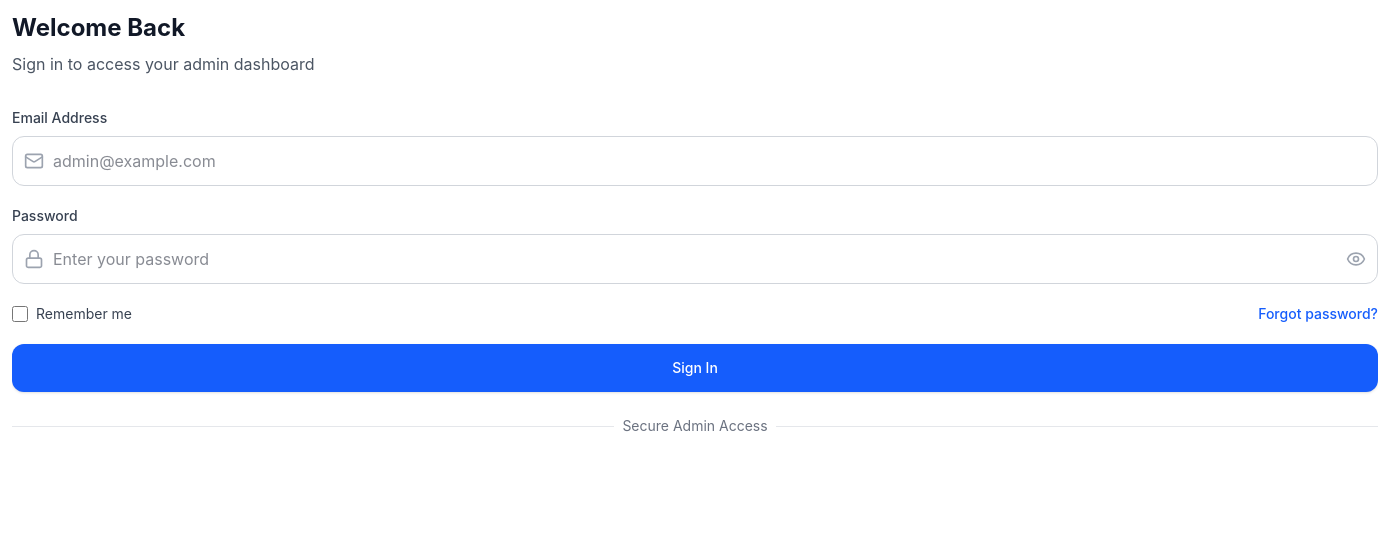
it: Auth preservation › 3.2 — login form with invalid credentials shows authentication error message
The image size is (1390, 547).
Step 1. Type "wrong@example.com" into the field labelled "Email Address" → (695, 161), box 12,136 -> 1378,186
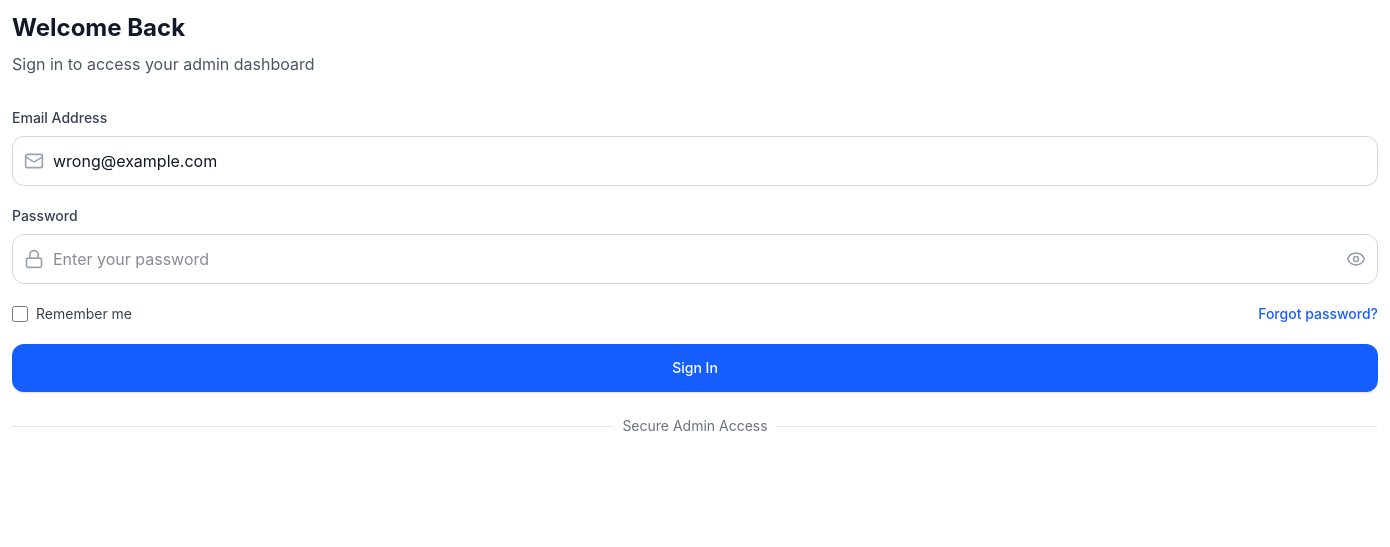
Step 2. Type "wrongpassword" into the password field labelled "Password" → (695, 259), box 12,234 -> 1378,284
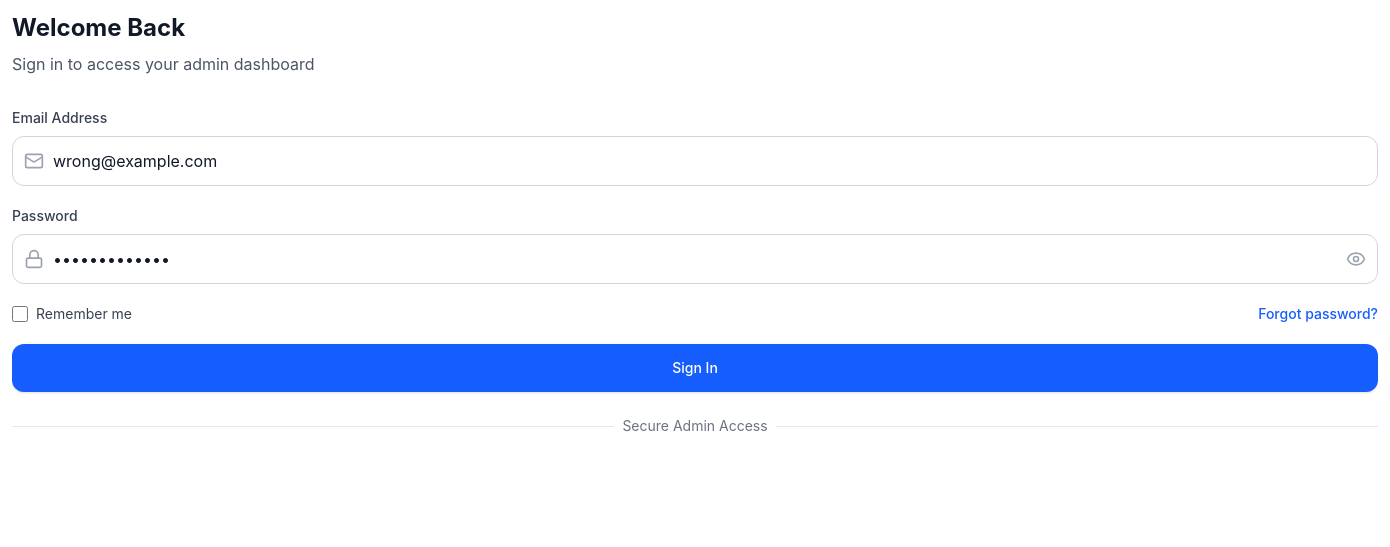
Step 3. Click the button "Sign In" → (695, 368), box 12,344 -> 1378,392
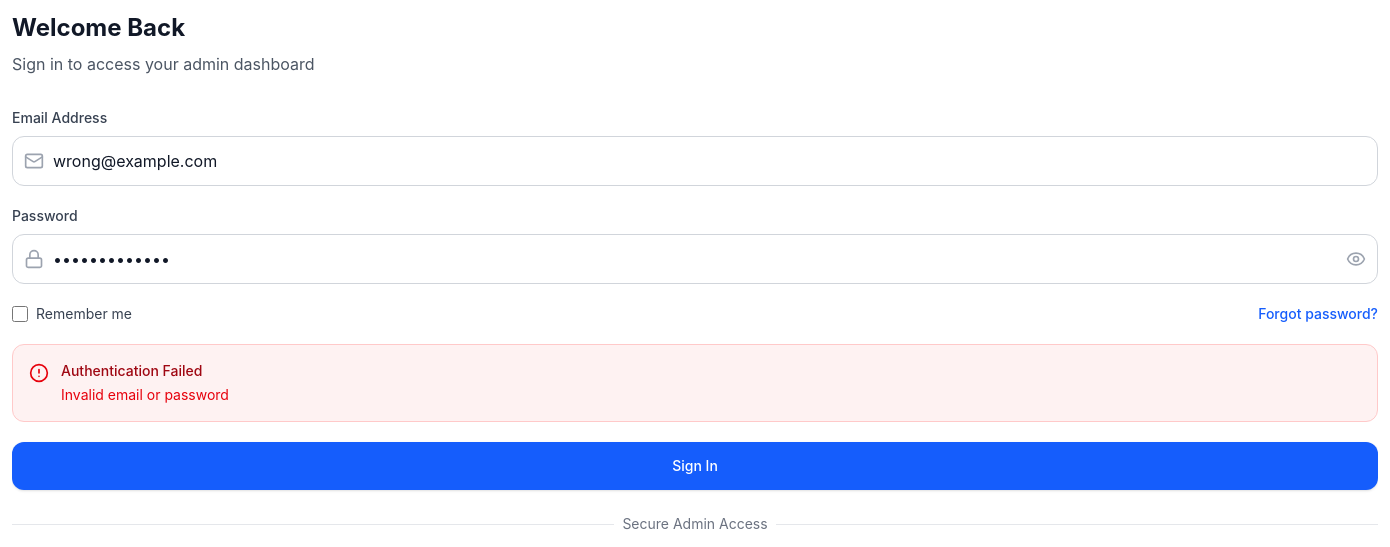
Expected: the message "Authentication Failed Invalid email or password" is shown, 12,344 -> 1378,422
Expected: the text "Authentication Failed" is shown, 61,362 -> 202,379
Expected: the text "Invalid email or password" is shown, 61,385 -> 229,405
